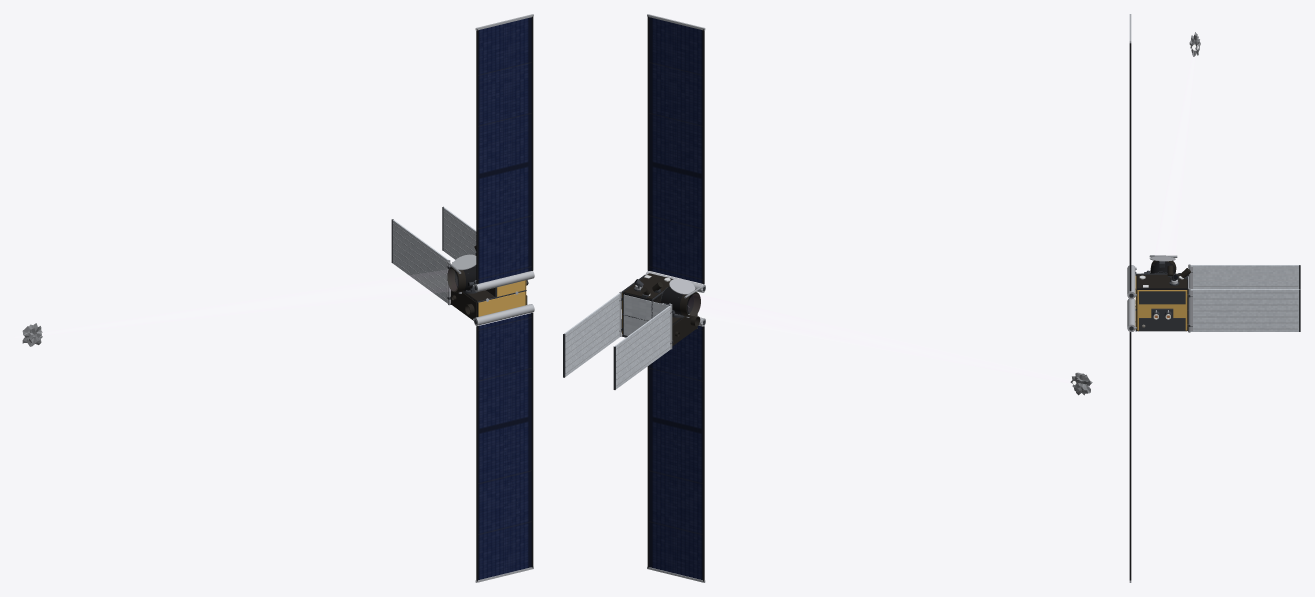
Rendered from shepherd-1.glb.
3 views of the same model, side by side, from view 1: azimuth 30°, elevation 25°; view 2: azimuth 150°, elevation 25°; view 3: azimuth 270°, elevation 25° (orthographic). The views are drawn at different scales.
Parts seen in each view (by area): view 1: solar_arrays:nadir wing blanket, solar_arrays:zenith wing blanket, radiators:aft-side radiator panel, radiators:ram-side radiator panel, solar_arrays:nadir wing boom +0.6, solar_arrays:nadir wing boom -0.6, solar_arrays:zenith wing boom -0.6, solar_arrays:zenith wing boom +0.6, bus:sun-face MLI lower; view 2: solar_arrays:zenith wing blanket, solar_arrays:nadir wing blanket, radiators:ram-side radiator panel, radiators:aft-side radiator panel, bus:body radiator, solar_arrays:zenith wing boom -0.6, solar_arrays:nadir wing boom -0.6, solar_arrays:zenith wing boom +0.6; view 3: radiators:ram-side radiator panel, radiators:aft-side radiator panel, bus:ram-face MLI, solar_arrays:nadir wing boom +0.6, solar_arrays:zenith wing boom +0.6, bus:ram bumper upper, bus:ram bumper lower, bus:zenith MLI, solar_arrays:nadir wing canister, solar_arrays:zenith wing canister.
Part boxes in pixels (box(x1,y1,x2,y2)): solar_arrays:nadir wing blanket: box(478, 313, 531, 579); solar_arrays:zenith wing blanket: box(478, 17, 531, 283); radiators:aft-side radiator panel: box(392, 219, 448, 303); radiators:ram-side radiator panel: box(443, 207, 476, 259); solar_arrays:nadir wing boom +0.6: box(531, 312, 533, 567); solar_arrays:nadir wing boom -0.6: box(476, 326, 478, 581); solar_arrays:zenith wing boom -0.6: box(476, 29, 478, 284); solar_arrays:zenith wing boom +0.6: box(531, 16, 533, 270); bus:sun-face MLI lower: box(478, 291, 525, 316); solar_arrays:zenith wing blanket: box(649, 17, 702, 283); solar_arrays:nadir wing blanket: box(649, 325, 702, 579); radiators:ram-side radiator panel: box(564, 293, 620, 376); radiators:aft-side radiator panel: box(614, 305, 671, 389); bus:body radiator: box(623, 294, 668, 335); solar_arrays:zenith wing boom -0.6: box(702, 29, 704, 284); solar_arrays:nadir wing boom -0.6: box(702, 326, 704, 581); solar_arrays:zenith wing boom +0.6: box(647, 16, 649, 270); radiators:ram-side radiator panel: box(1190, 289, 1299, 331); radiators:aft-side radiator panel: box(1190, 265, 1298, 288); bus:ram-face MLI: box(1137, 290, 1187, 330); solar_arrays:nadir wing boom +0.6: box(1129, 332, 1131, 580); solar_arrays:zenith wing boom +0.6: box(1129, 43, 1131, 291); bus:ram bumper upper: box(1139, 291, 1185, 304); bus:ram bumper lower: box(1139, 318, 1185, 331); bus:zenith MLI: box(1137, 274, 1187, 288); solar_arrays:nadir wing canister: box(1127, 298, 1135, 331); solar_arrays:zenith wing canister: box(1127, 265, 1135, 299).
Size of the model in its own units: 10.1 by 10.87 by 3.15.
19 materials, 2 textured.
